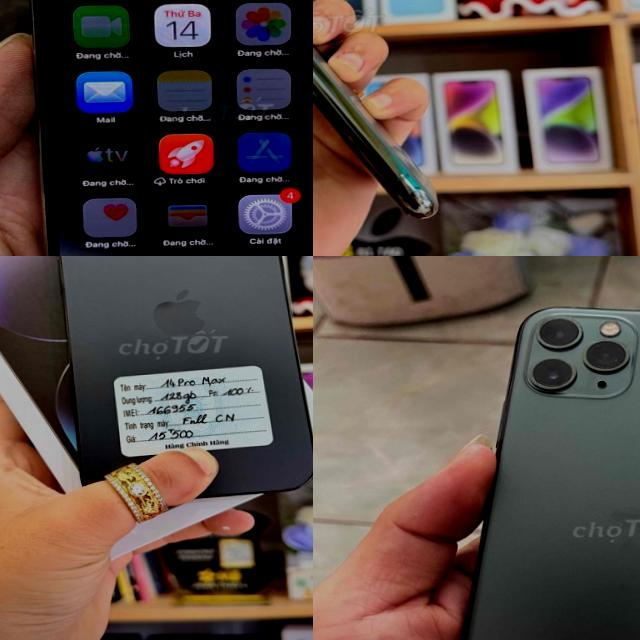gen_11: (456, 292, 640, 640), (313, 44, 437, 218)
gen_14: (4, 0, 313, 256), (42, 256, 313, 505)
